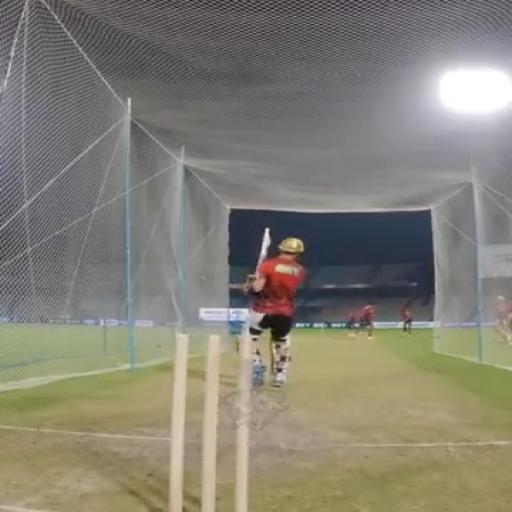Cricket bat: (255, 229, 270, 272)
